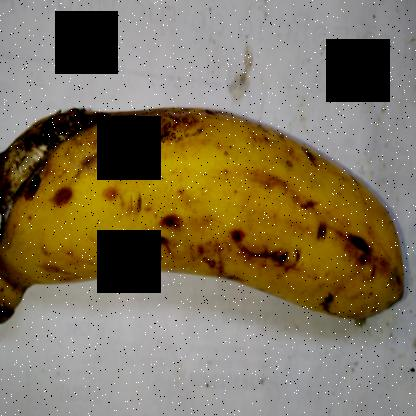ripe: (98, 97, 405, 343)
rotten: (1, 97, 127, 253)
